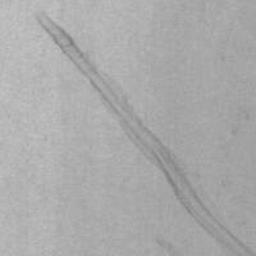Water spot: (40, 13, 256, 256), (156, 241, 179, 256)
